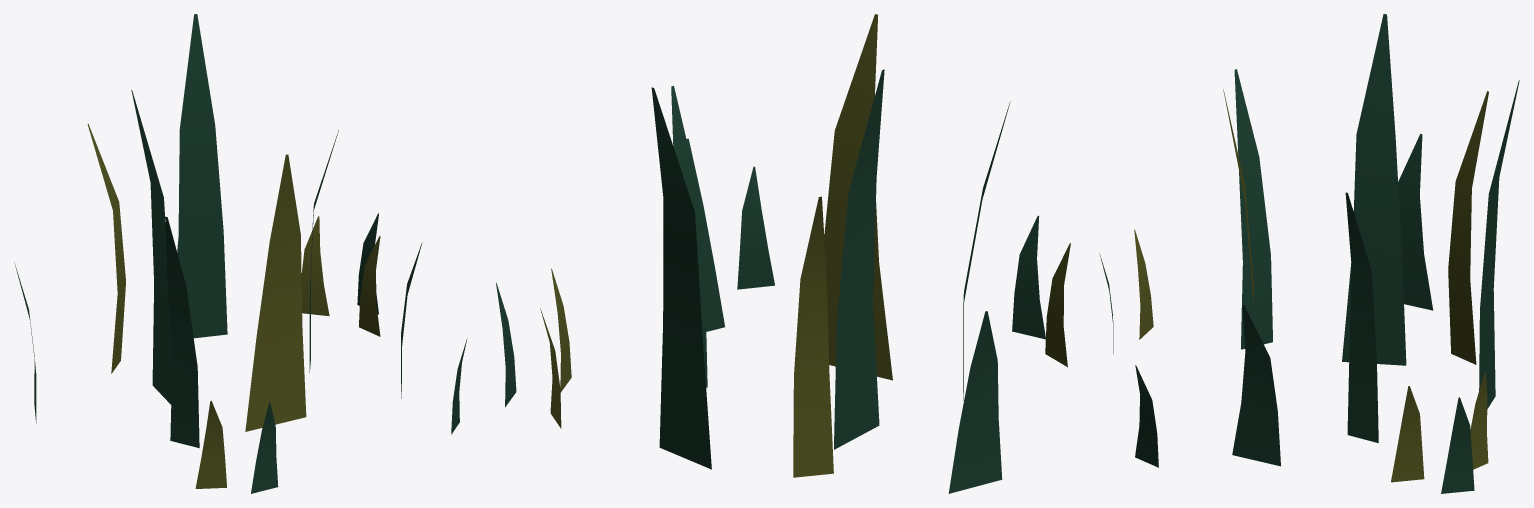
Rendered from grass.fbx.
The picture shows the model from 3 angles, left to right: view 1: azimuth 30°, elevation 25°; view 2: azimuth 150°, elevation 25°; view 3: azimuth 270°, elevation 25°; orthographic projection. The views are drawn at different scales.
Parts seen in each view (by area): view 1: grassBlade_0006, grassBlade_0001, grassBlade_0005, grassBlade_0003, grassBlade_0004, grassBlade_0009, grassBlade_0012, grassBlade_0010, grassBlade_0014, grassBlade_0013; view 2: grassBlade_0006, grassBlade_0003, grassBlade_0004, grassBlade_0001, grassBlade_0008, grassBlade_0011, grassBlade_0010, grassBlade_0002, grassBlade_0009, grassBlade_0007, grassBlade_0013, grassBlade_0014 (+1 smaller); view 3: grassBlade_0003, grassBlade_0005, grassBlade_0002, grassBlade_0004, grassBlade_0007, grassBlade_0008, grassBlade_0006, grassBlade_0014, grassBlade_0013, grassBlade_0011, grassBlade_0012, grassBlade_0009 (+1 smaller).
Boxes of the visible parts, box(x1,y1,x2,y2) form: grassBlade_0006: box(177, 14, 227, 338); grassBlade_0001: box(245, 154, 306, 431); grassBlade_0005: box(165, 216, 199, 448); grassBlade_0003: box(131, 90, 172, 404); grassBlade_0004: box(87, 123, 125, 373); grassBlade_0009: box(195, 400, 226, 488); grassBlade_0012: box(301, 216, 329, 316); grassBlade_0010: box(251, 402, 278, 493); grassBlade_0014: box(359, 236, 380, 336); grassBlade_0013: box(357, 213, 378, 314); grassBlade_0006: box(651, 87, 711, 469); grassBlade_0003: box(834, 69, 884, 449); grassBlade_0004: box(793, 196, 833, 477); grassBlade_0001: box(824, 14, 892, 380); grassBlade_0008: box(948, 311, 1002, 493); grassBlade_0011: box(737, 166, 774, 289); grassBlade_0010: box(1012, 215, 1045, 339); grassBlade_0002: box(671, 86, 707, 387); grassBlade_0009: box(1045, 243, 1070, 367); grassBlade_0007: box(686, 138, 724, 331); grassBlade_0013: box(496, 283, 516, 407); grassBlade_0014: box(551, 268, 571, 392); grassBlade_0003: box(1342, 14, 1406, 365); grassBlade_0005: box(1234, 69, 1272, 349); grassBlade_0002: box(1345, 192, 1378, 442); grassBlade_0004: box(1448, 91, 1488, 364); grassBlade_0007: box(1232, 305, 1280, 466); grassBlade_0008: box(1398, 133, 1433, 310); grassBlade_0006: box(1479, 80, 1519, 408); grassBlade_0014: box(1391, 386, 1424, 482); grassBlade_0013: box(1441, 397, 1474, 493); grassBlade_0011: box(1135, 365, 1158, 467); grassBlade_0012: box(1470, 372, 1488, 469); grassBlade_0009: box(1134, 229, 1153, 339).
Bounding box in the file's own units: 26.28 × 20.41 × 23.13.
